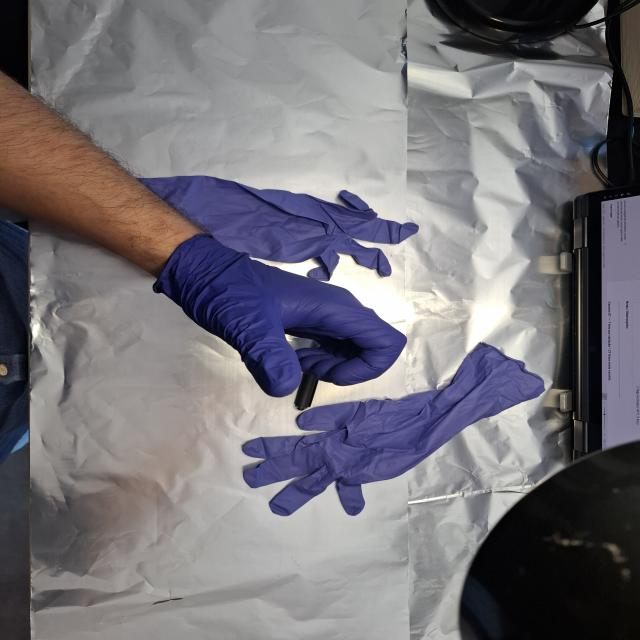glove_on: (150, 230, 412, 400)
